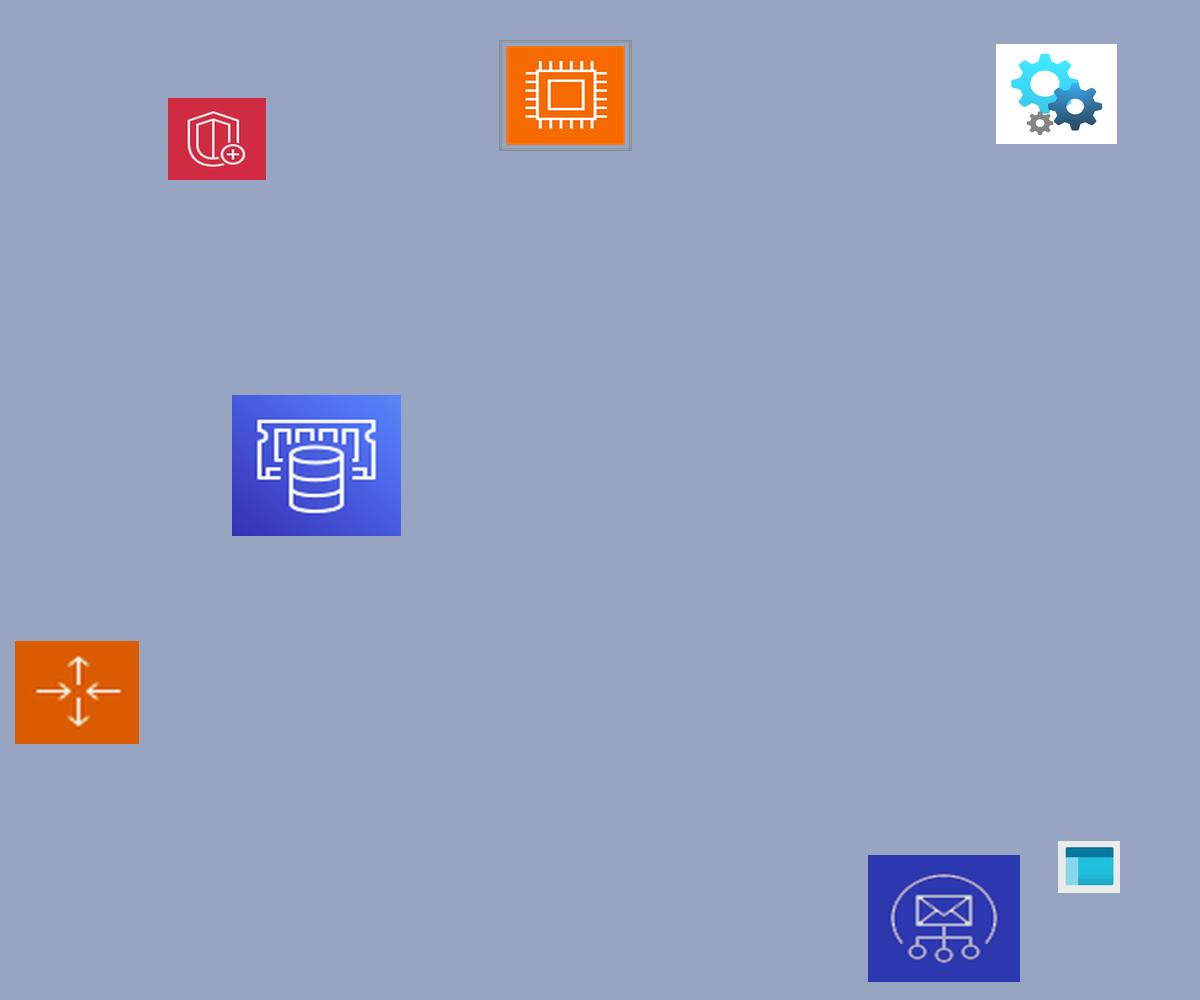AWS-Category_Compute: (499, 40, 632, 151)
AWS-ElastiCache: (232, 395, 401, 536)
AWS-Scaling-group: (15, 641, 139, 744)
AWS-Shield: (168, 98, 266, 180)
AWS-Simple-Email-Service: (868, 855, 1020, 982)
Azure_api: (996, 44, 1117, 144)
Azure_management-portal: (1058, 841, 1120, 893)
